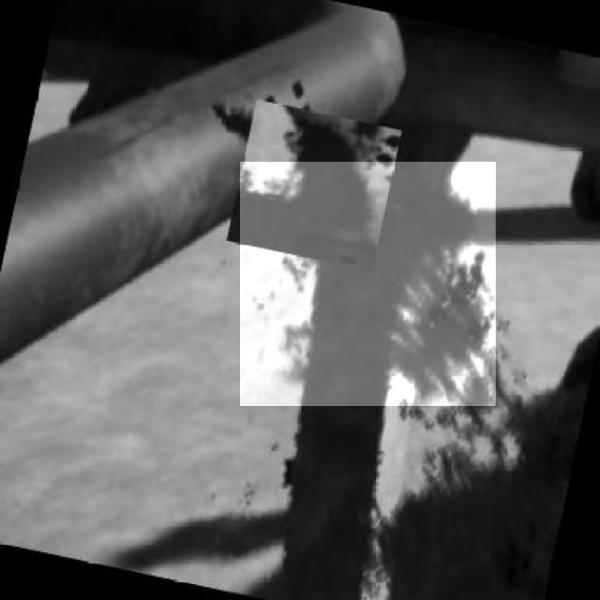gas: (240, 162, 496, 406)
